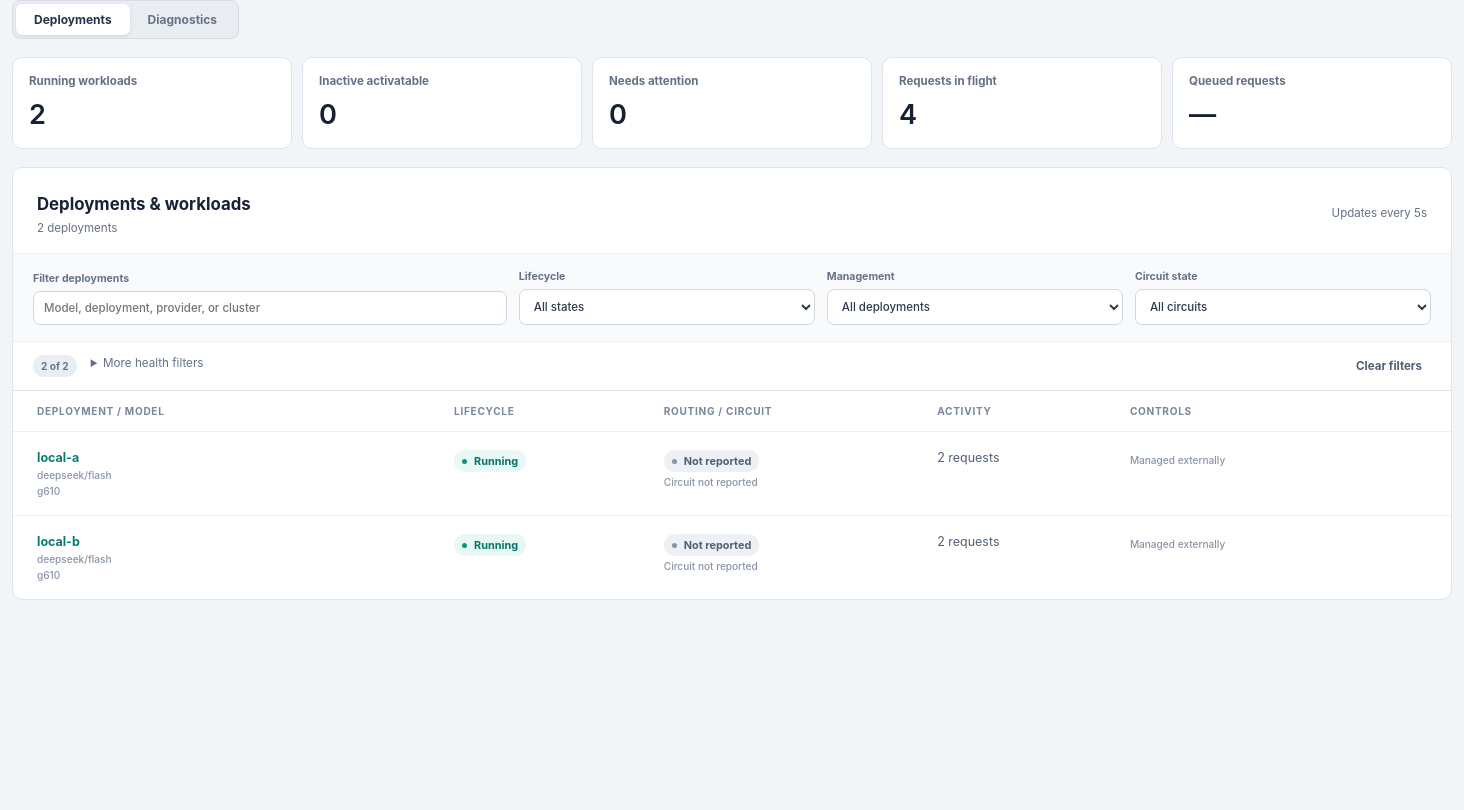
fetches every endpoint page and keeps diagnostic filters out of the main inventory
The image size is (1464, 810).
Expected: the button "local-b" is shown, [37, 534, 80, 549]
Expected: the button "Running workloads 2" is shown, [12, 57, 292, 149]
Click the tab "Diagnostics" at (182, 20), box [130, 4, 235, 35]
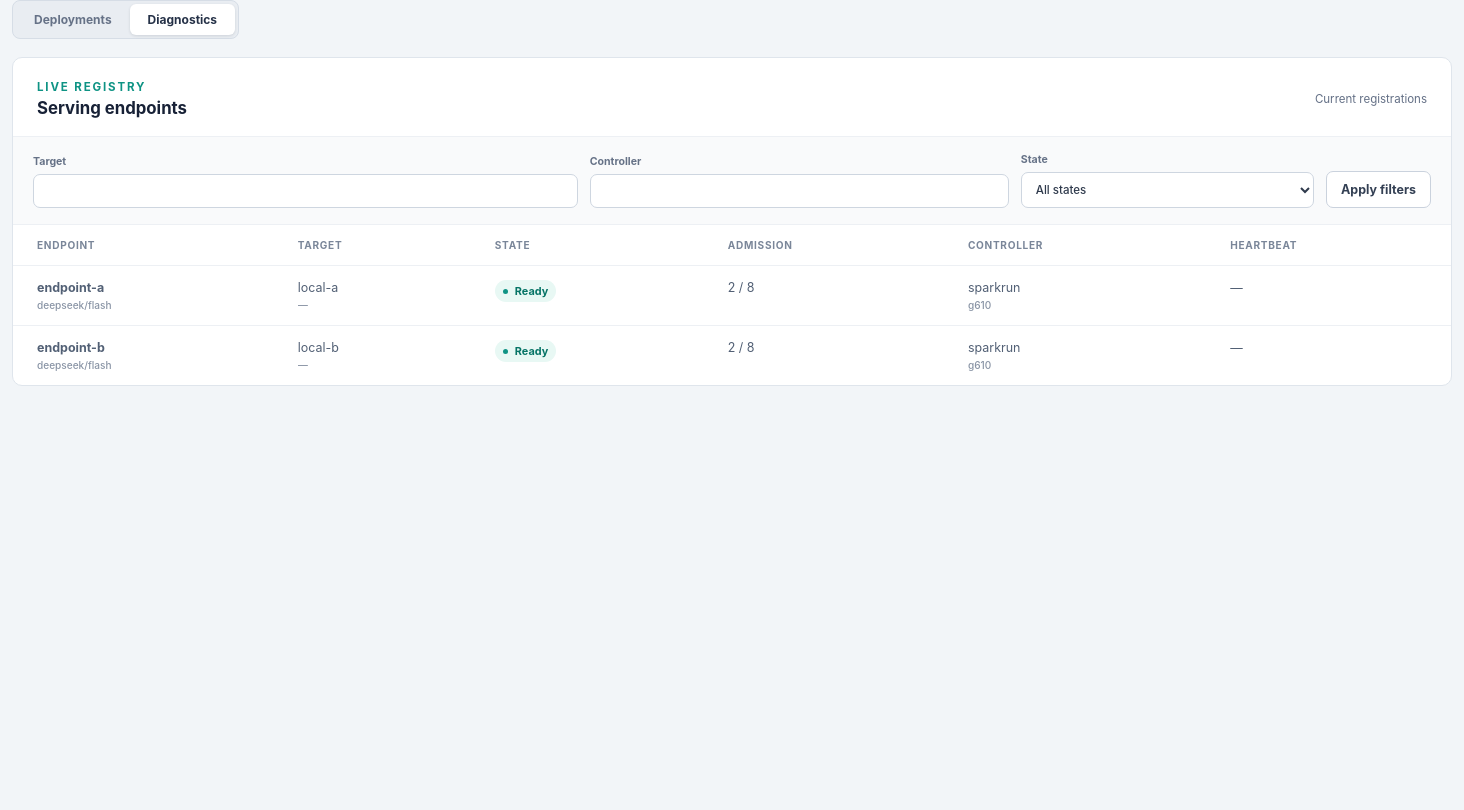
Type "local-b" into the field named "Runtime target" at (305, 191), box [33, 174, 578, 208]
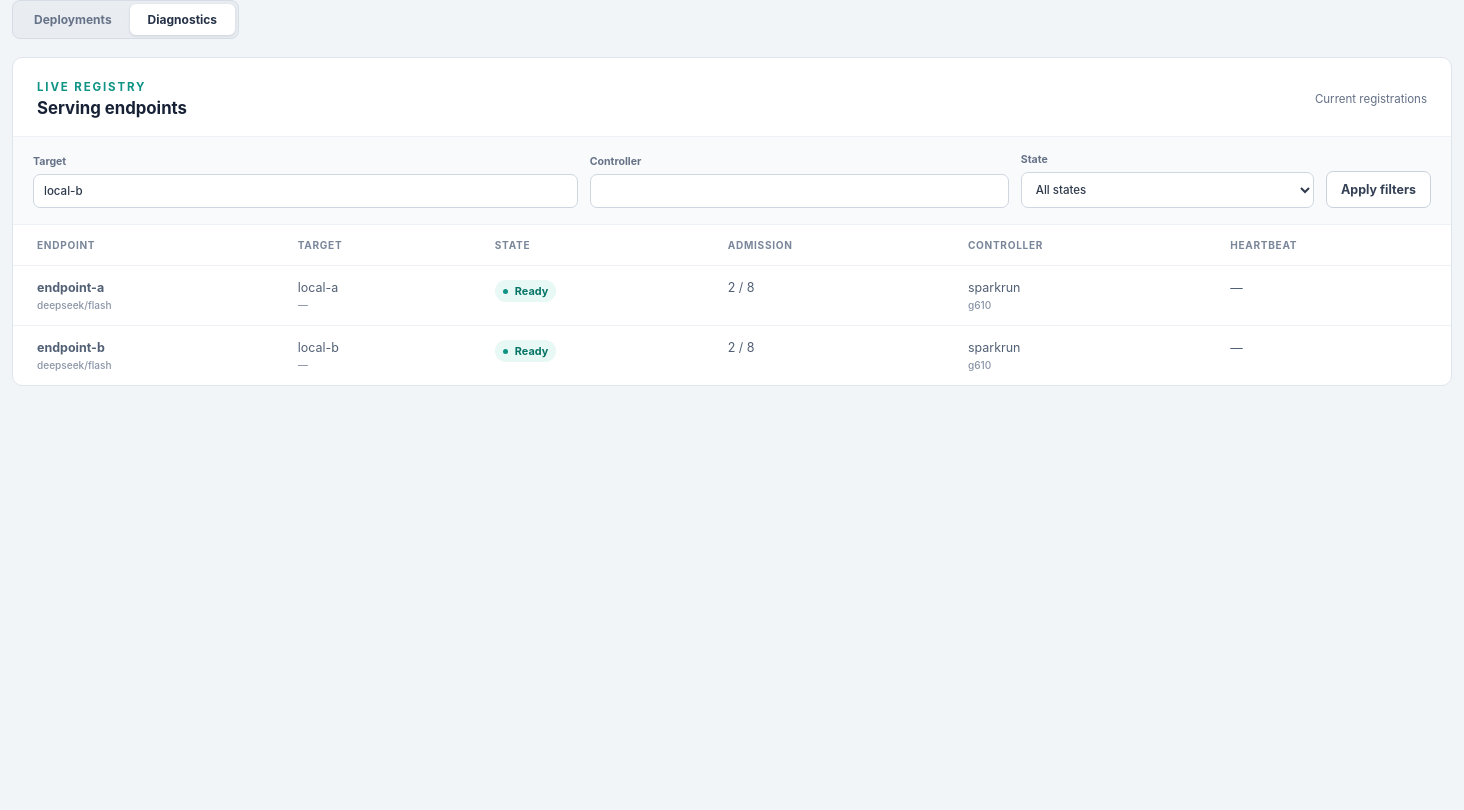
Click the button "Apply filters" at (1378, 190), box [1326, 171, 1431, 208]
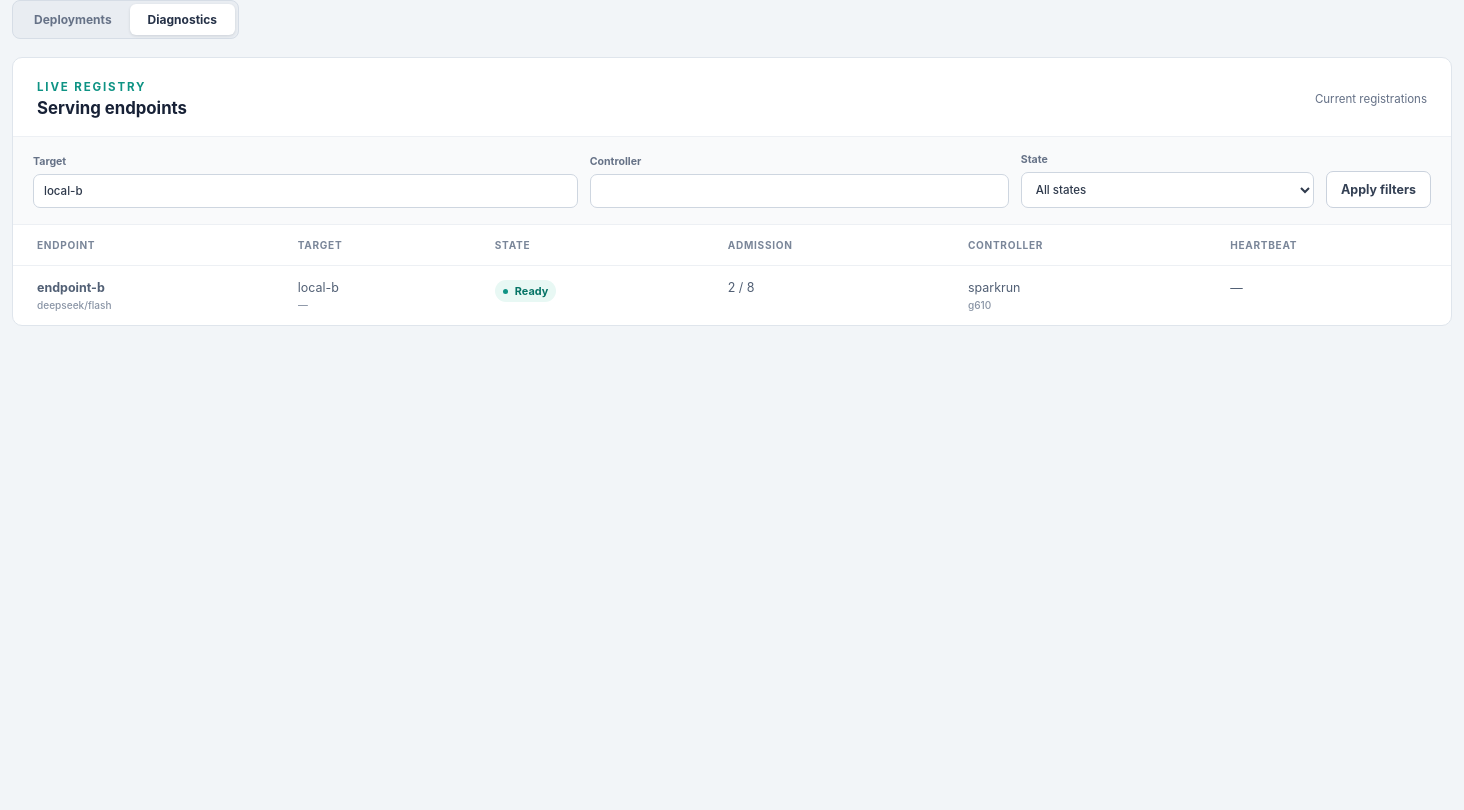
Expected: the text "endpoint-b" is shown, [37, 280, 105, 295]
Expected: the text "endpoint-a" is gone
Click the tab "Deployments" at (73, 20), box [16, 4, 130, 35]
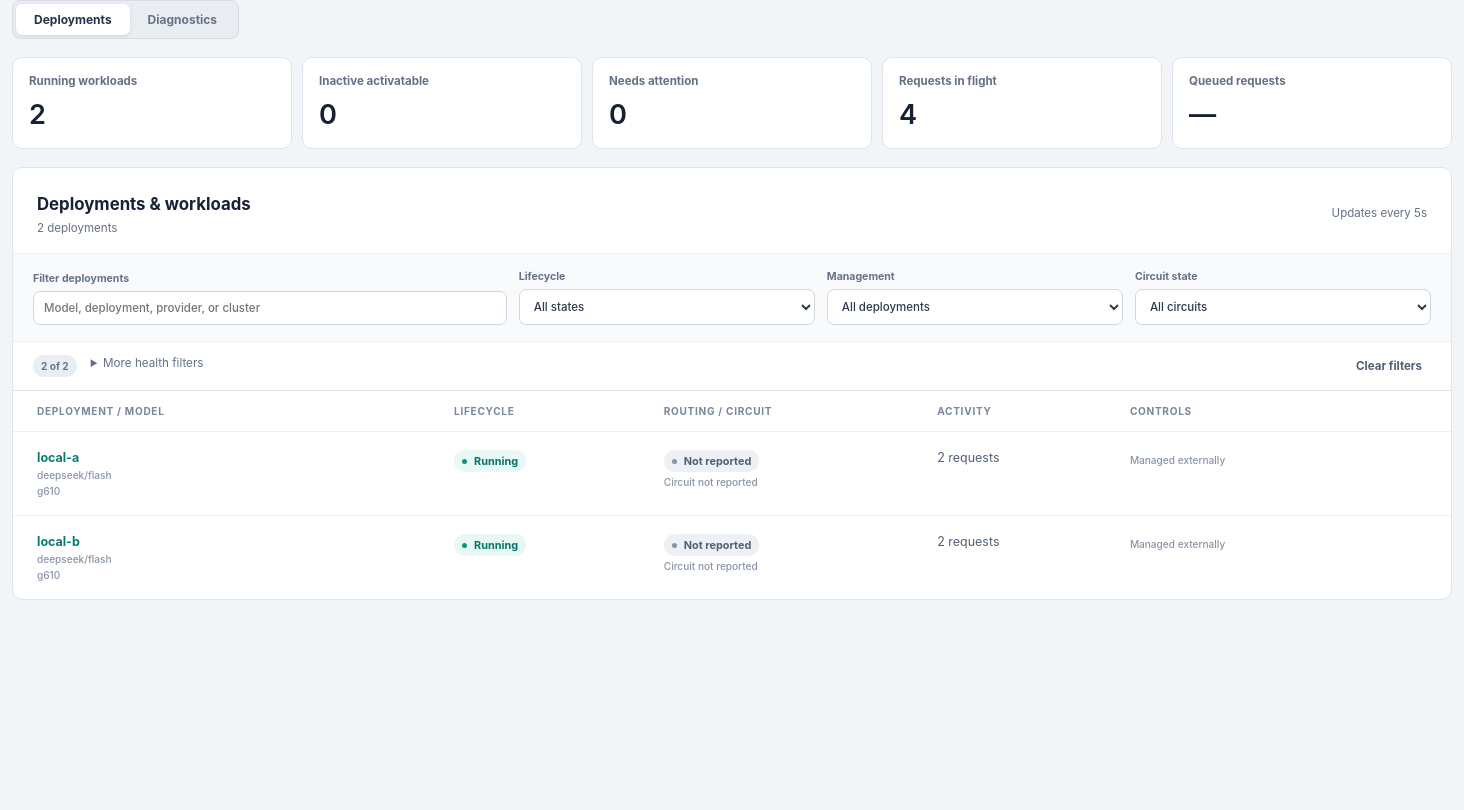
Expected: the button "Running workloads 2" is shown, [12, 57, 292, 149]
Expected: the number of rows is 3, [13, 391, 1451, 432]; [13, 432, 1451, 516]; [13, 516, 1451, 599]
